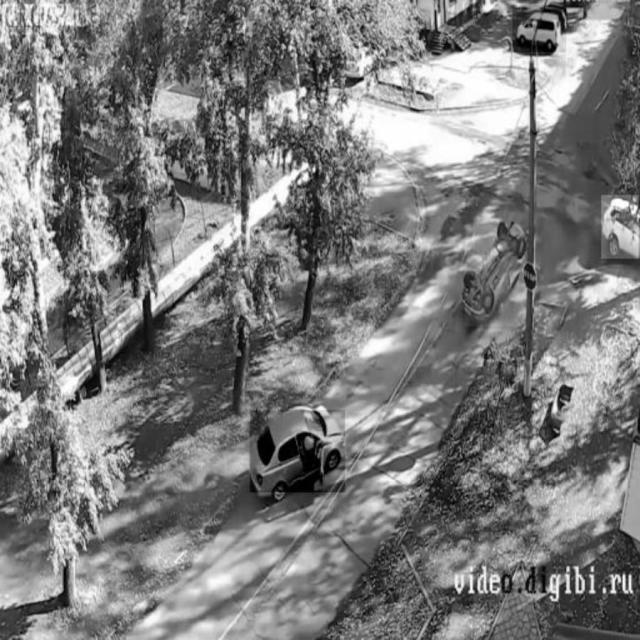vehicle: (251, 410, 345, 493), (465, 226, 526, 327), (512, 4, 566, 52), (602, 195, 639, 259)
